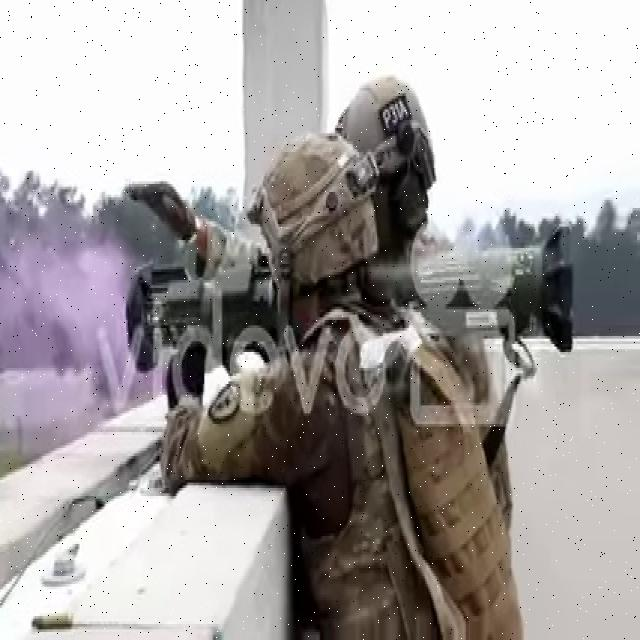bazooka: (122, 220, 581, 382)
